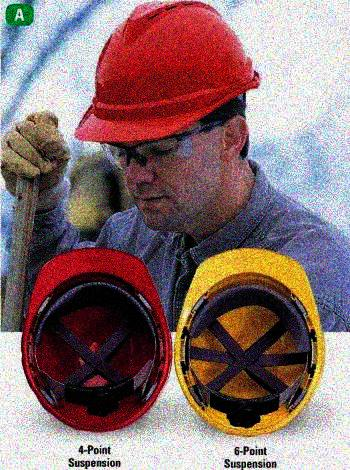helmet: (71, 1, 264, 231)
